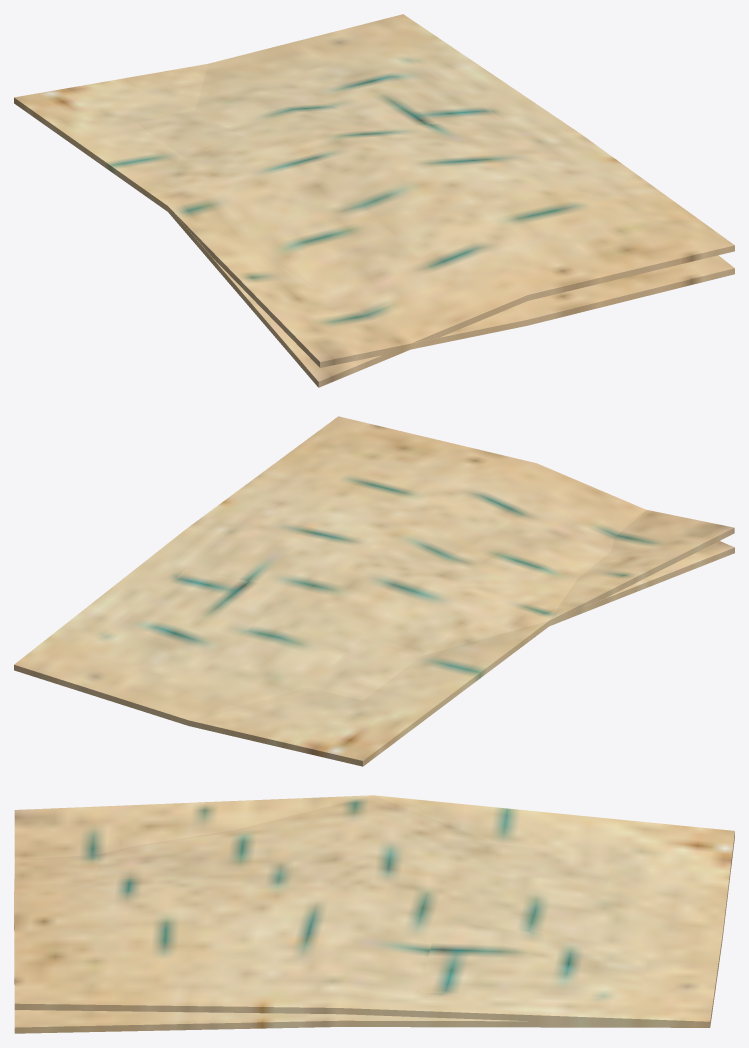
File: paper.fbx
3 views of the same model, one above another, from view 1: azimuth 30°, elevation 25°; view 2: azimuth 150°, elevation 25°; view 3: azimuth 270°, elevation 25° (orthographic). The views are drawn at different scales.
Parts seen in each view (by area): view 1: paper_02, paper_01; view 2: paper_02, paper_01; view 3: paper_02, paper_01.
Part boxes in pixels (left/top/right/bottom): paper_02: left=133, top=14, right=734, bottom=387; paper_01: left=14, top=63, right=734, bottom=367; paper_02: left=14, top=416, right=734, bottom=720; paper_01: left=14, top=509, right=734, bottom=766; paper_02: left=14, top=795, right=722, bottom=1027; paper_01: left=14, top=795, right=734, bottom=1033.
Size of the model in its own units: 34.78 by 4.7 by 49.92.
Materials: 1 (1 with a texture image).
